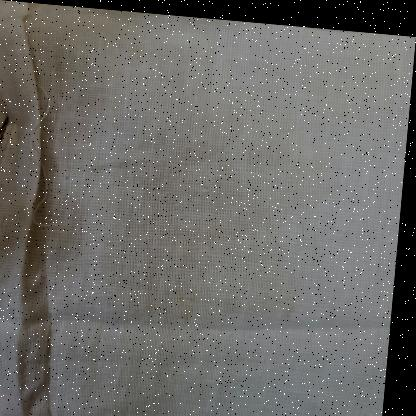spot: (209, 291, 286, 314), (174, 276, 206, 320), (64, 173, 76, 180), (0, 182, 9, 190)
